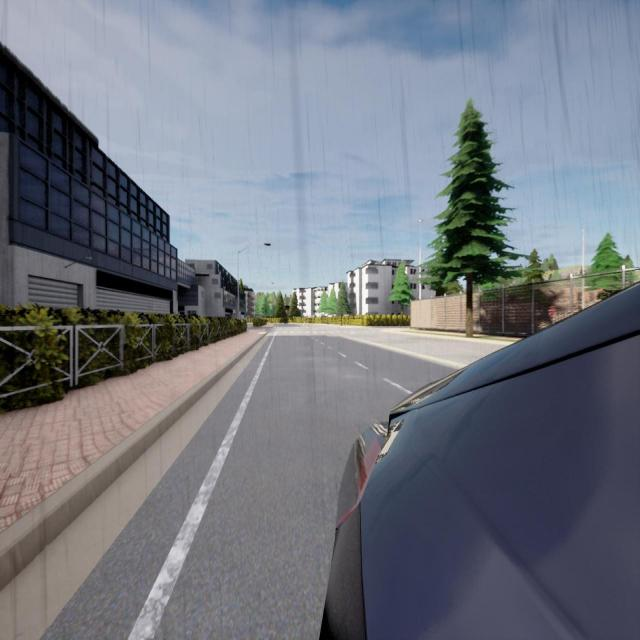Vehicle: (319, 282, 640, 640)
